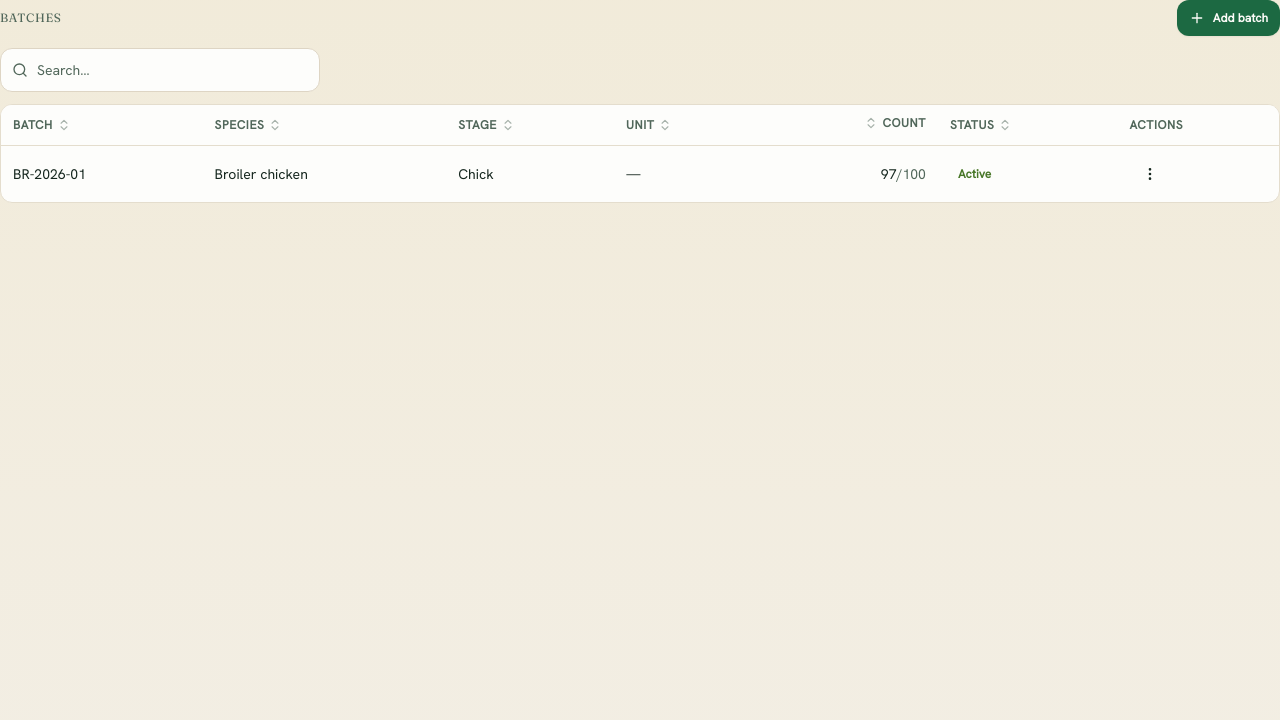
it: BatchesPanel (11.6a rewrite) › creates a batch from the dialog including the dormant name/breed/unit fields
The image size is (1280, 720).
Expected: the text "BR-2026-01" is shown, [13,164,86,182]
Click the button "Add batch" at (1228, 18), box [1177,0,1279,36]
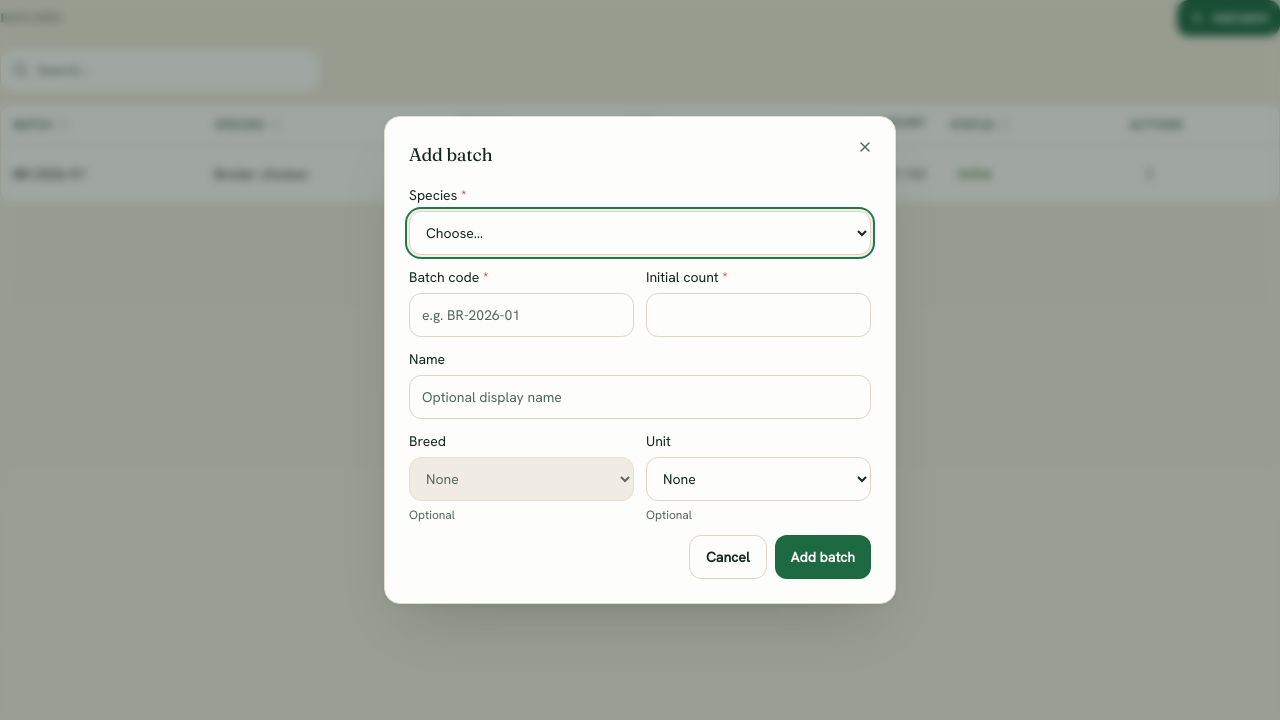
Select "Broiler chicken" in the dropdown labelled "Species *" at (640, 233), box [409,211,871,255]
Type "BR-2026-02" into the field labelled "Batch code *" at (522, 315), box [409,293,634,337]
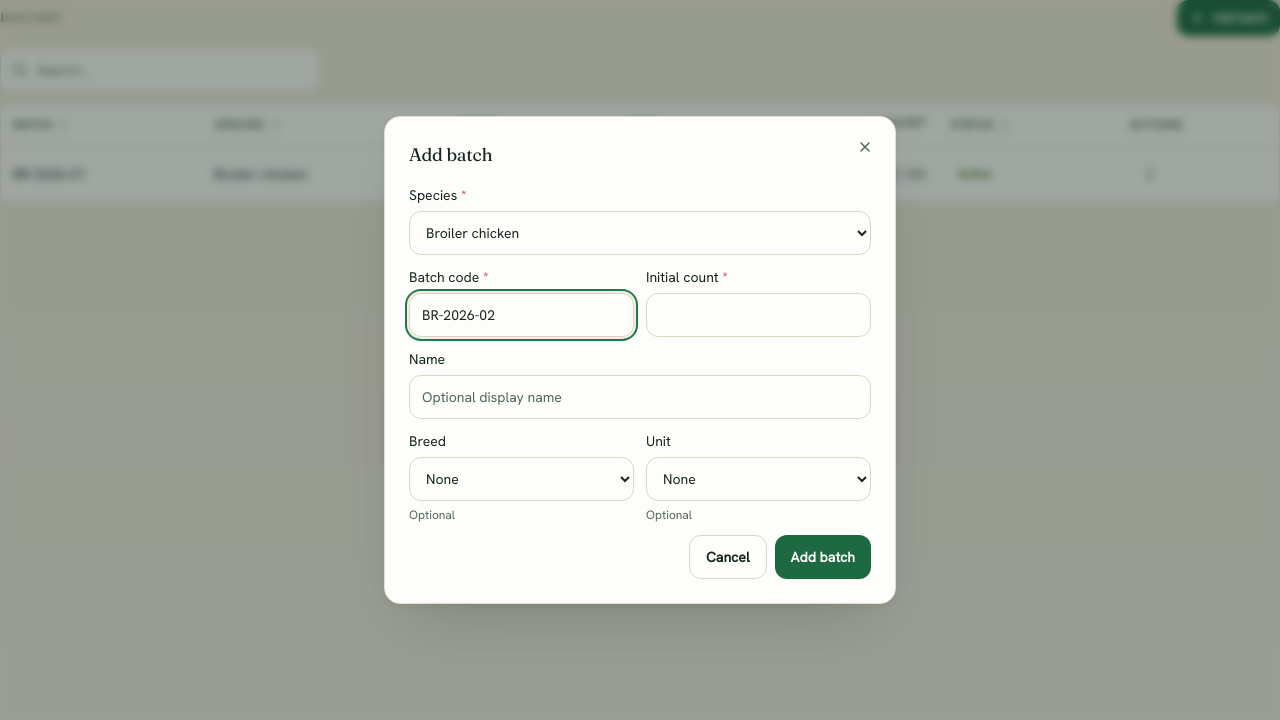
Type "50" into the number field labelled "Initial count *" at (758, 315), box [646,293,871,337]
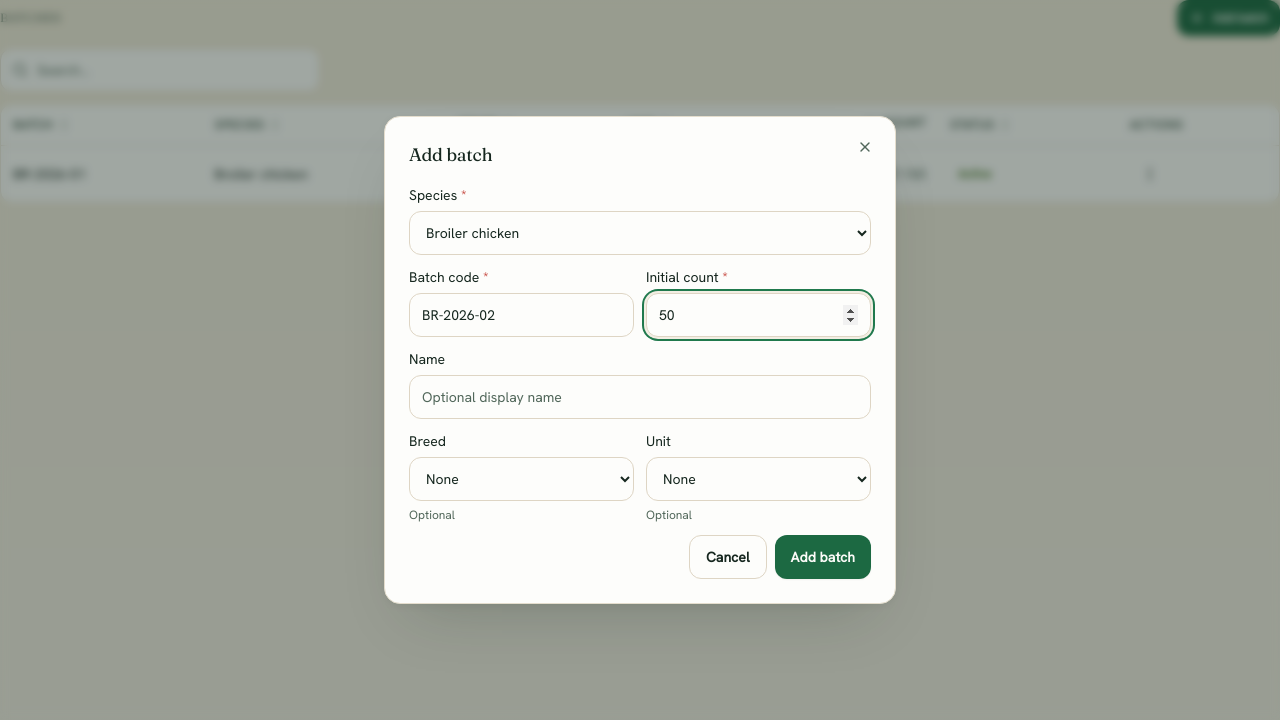
Type "Winter flock" into the field labelled "Name" at (640, 397), box [409,375,871,419]
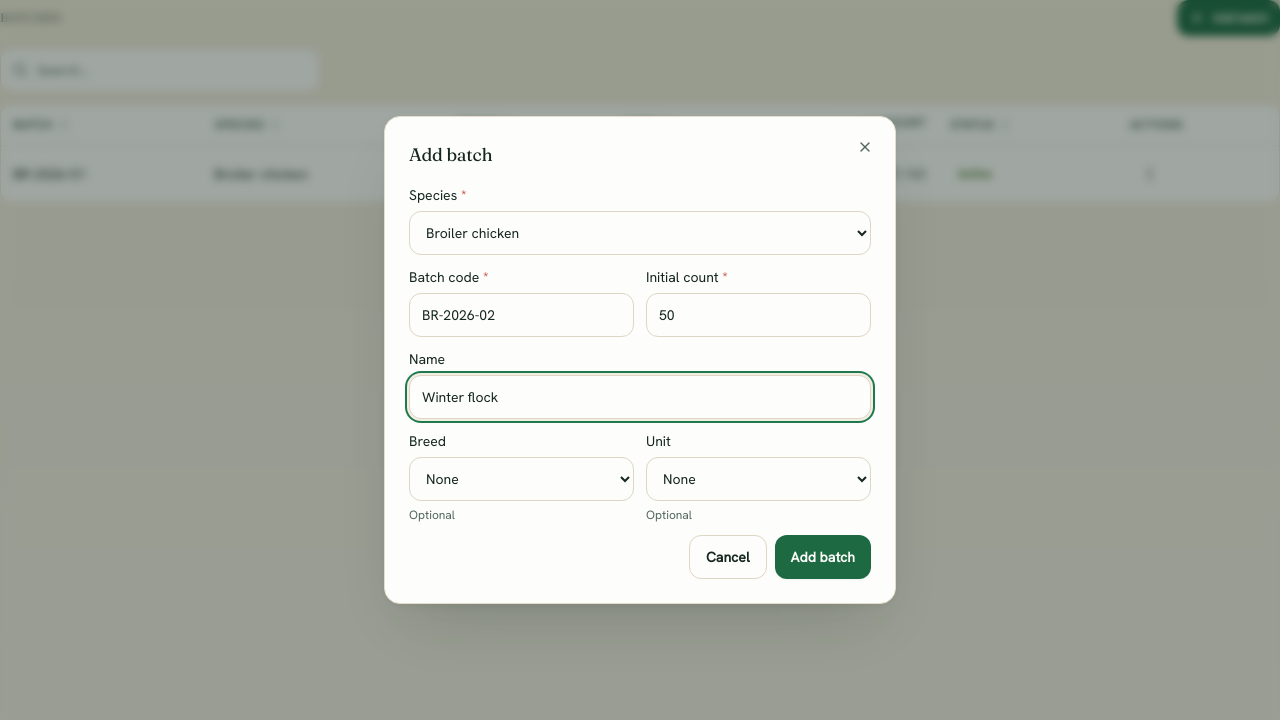
Expected: the dropdown labelled "Breed" is enabled
Select "Cobb 500" in the dropdown labelled "Breed" at (522, 479), box [409,457,634,501]
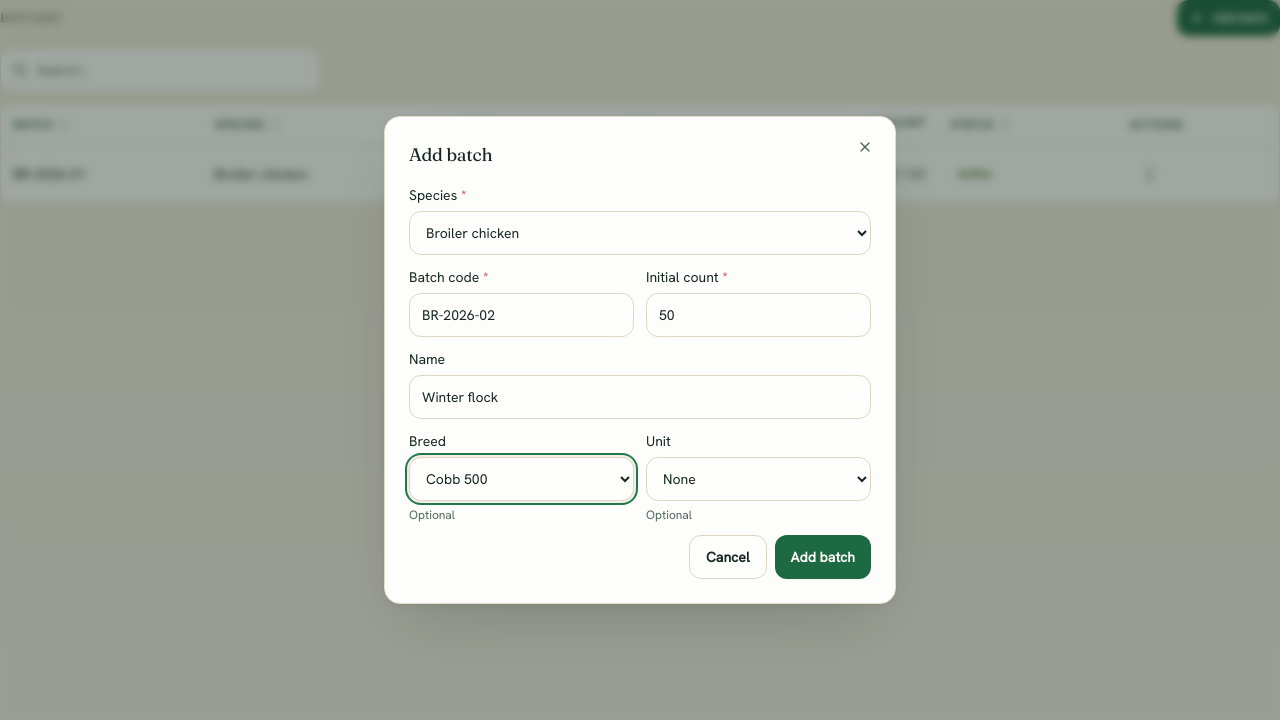
Click the button "Add batch" at (823, 557), box [775,535,871,579]
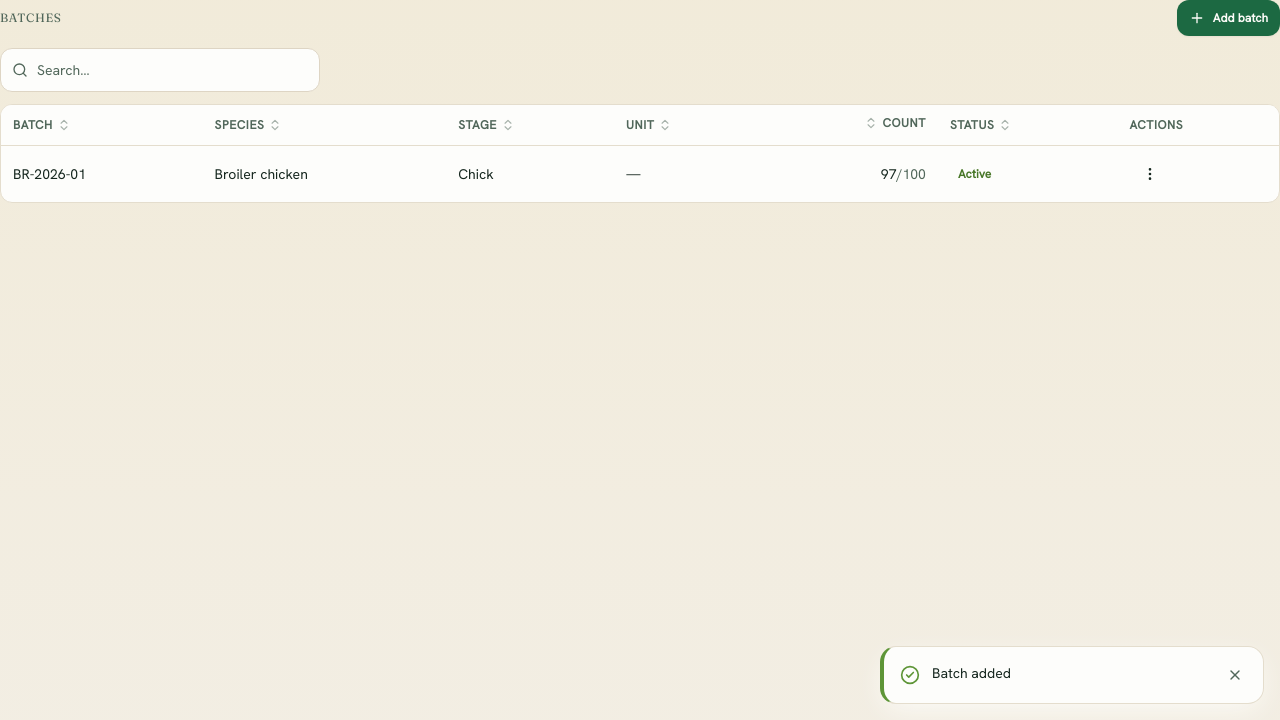
Expected: the text "Batch added" is shown, [932,664,1011,682]
